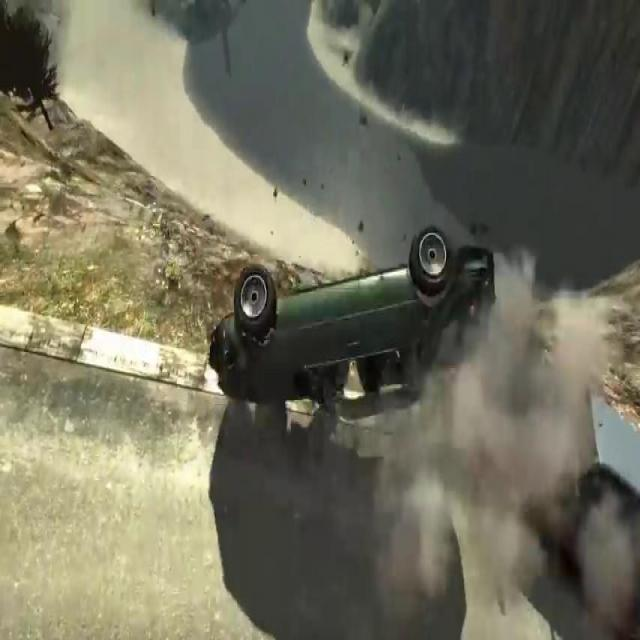accident: (206, 214, 498, 426)
